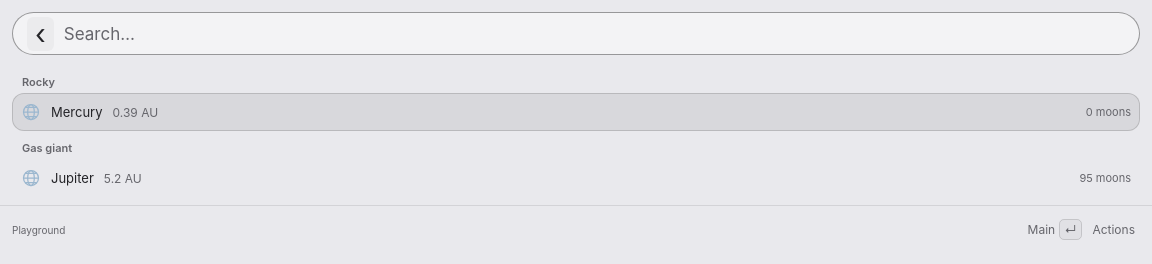
Test case: a declared modified Return wins while the action menu is open
The width and height of the screenshot is (1152, 264).
Click the button "Actions": [1114, 230] box [1087, 219, 1140, 240]
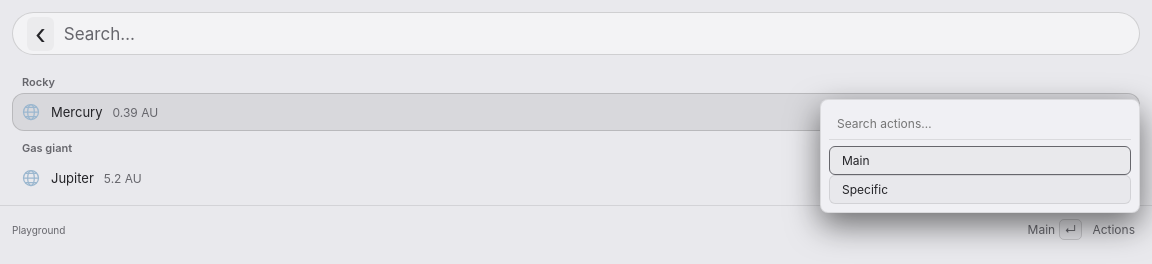
Check: the menu is shown, box [820, 99, 1140, 213]
Press Enter in the field named "Search extension actions", box [829, 108, 1131, 139]
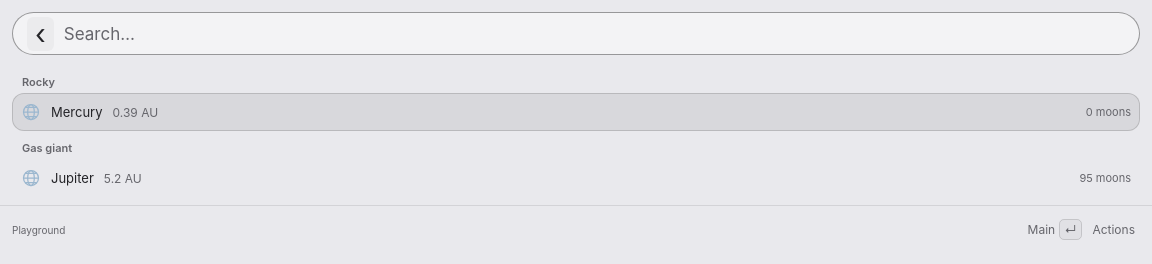
Check: the menu is gone
